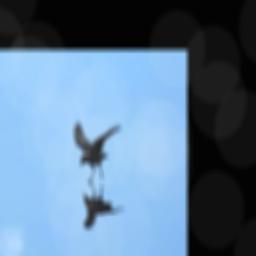Crow: (73, 120, 123, 185)
